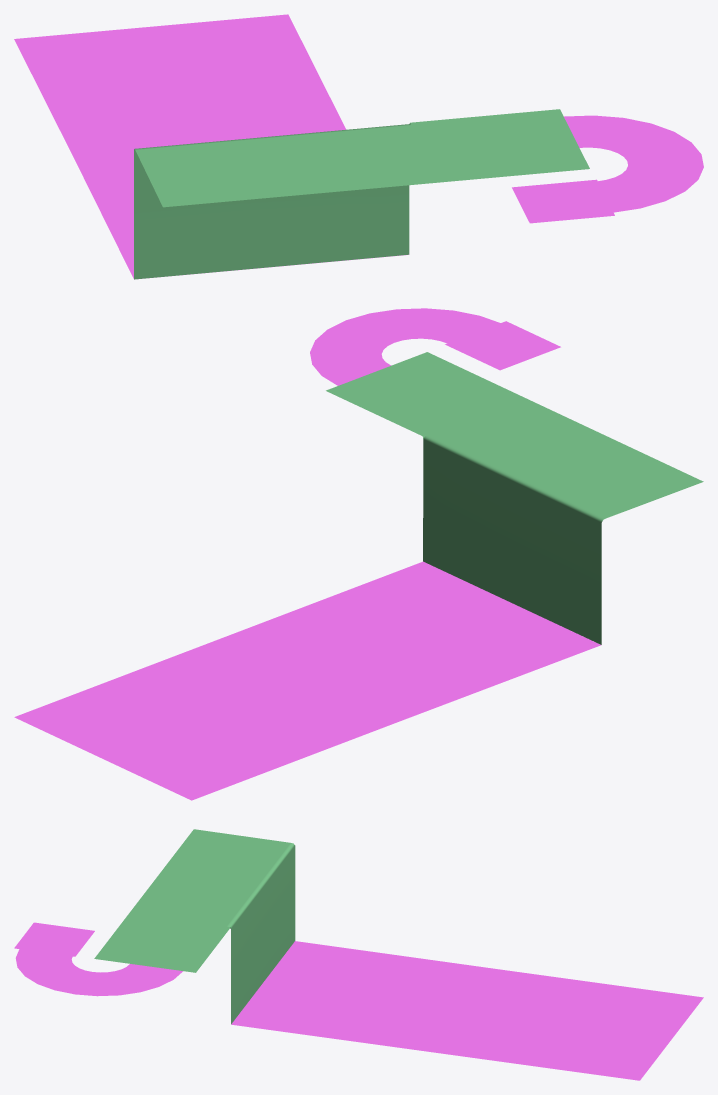
Rendered from Close_Lower_Floor.fbx.
3 views of the same model, one above another, from view 1: azimuth 30°, elevation 25°; view 2: azimuth 150°, elevation 25°; view 3: azimuth 270°, elevation 25° (orthographic). The views are drawn at different scales.
Visible parts, largest first — view 1: Close_Lower_Floor_low; view 2: Close_Lower_Floor_low; view 3: Close_Lower_Floor_low.
Boxes of the visible parts, bbox=[...] form: Close_Lower_Floor_low: bbox=[14, 14, 703, 279]; Close_Lower_Floor_low: bbox=[14, 308, 703, 800]; Close_Lower_Floor_low: bbox=[14, 829, 703, 1080].
Bounding box in the file's own units: 1837 × 500 × 3206.
